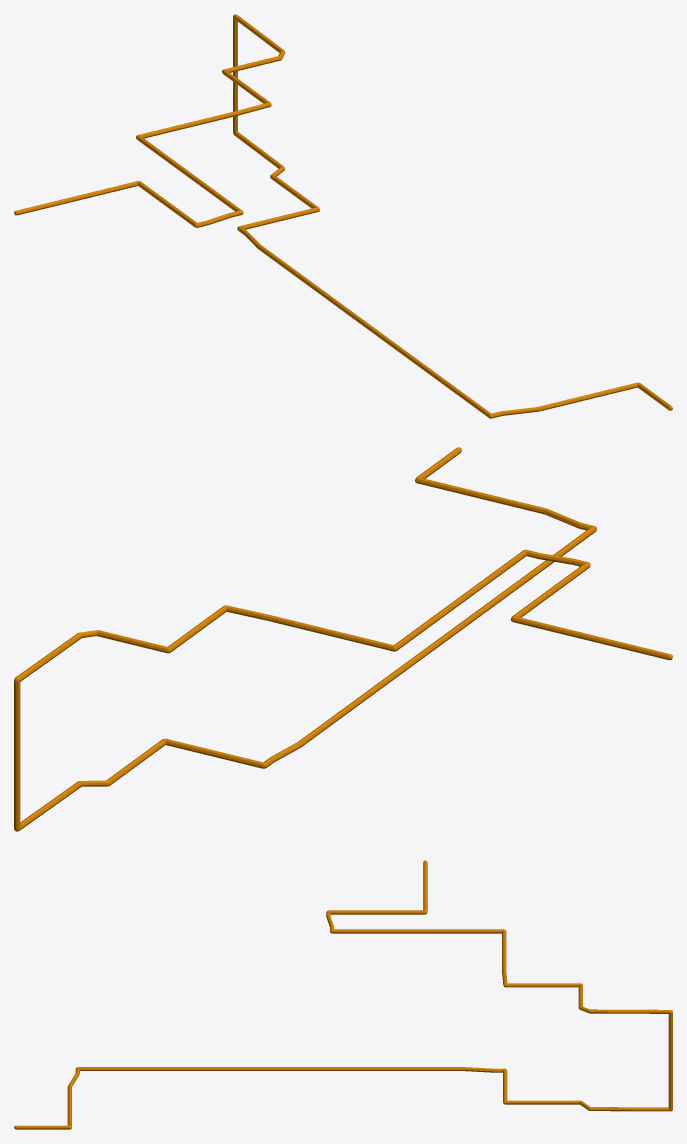
The picture shows the model from 3 angles, top to bottom: view 1: azimuth 30°, elevation 25°; view 2: azimuth 150°, elevation 25°; view 3: azimuth 270°, elevation 25°; orthographic projection. The views are drawn at different scales.
Bounding box in the file's own units: 1861 × 520 × 3061.
